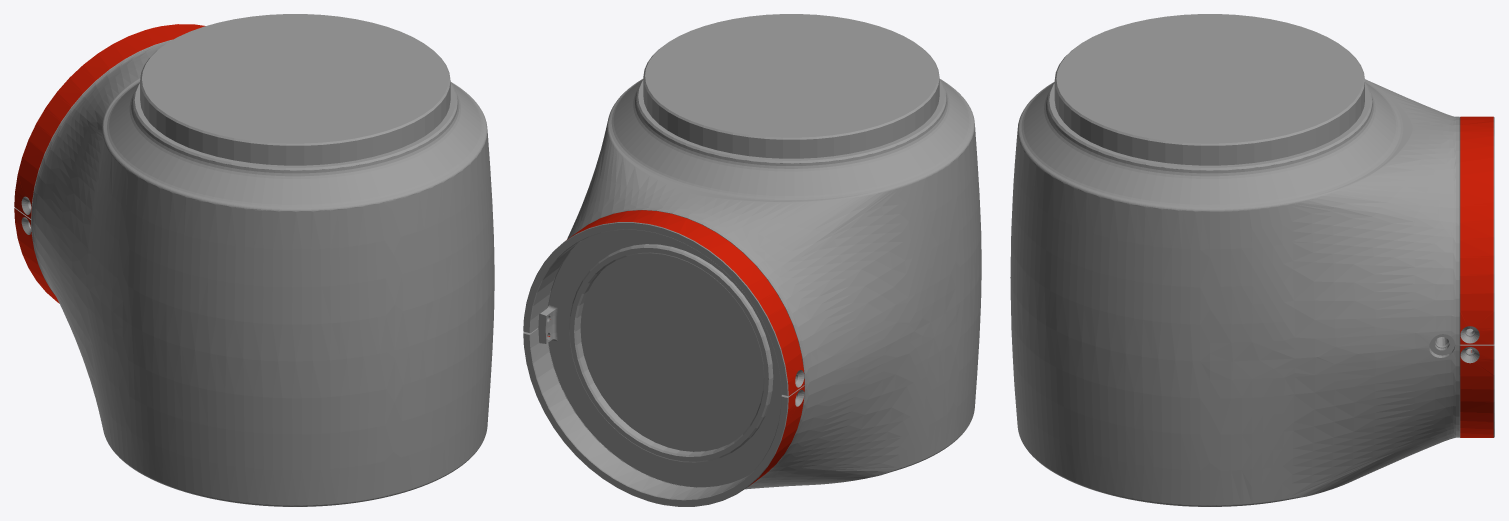
3 renders of one model, left to right at view 1: azimuth 30°, elevation 25°; view 2: azimuth 150°, elevation 25°; view 3: azimuth 270°, elevation 25°, orthographic. The views are drawn at different scales.
Parts seen in each view (by area): view 1: AR5-5_07R-W4C4A2_link1; view 2: AR5-5_07R-W4C4A2_link1; view 3: AR5-5_07R-W4C4A2_link1.
Boxes of the visible parts, box(x1,y1,x2,y2) form: AR5-5_07R-W4C4A2_link1: box(14, 14, 494, 506); AR5-5_07R-W4C4A2_link1: box(523, 14, 981, 506); AR5-5_07R-W4C4A2_link1: box(1010, 14, 1494, 506).
Size of the model in its own units: 0.1142 by 0.1159 by 0.1386.
